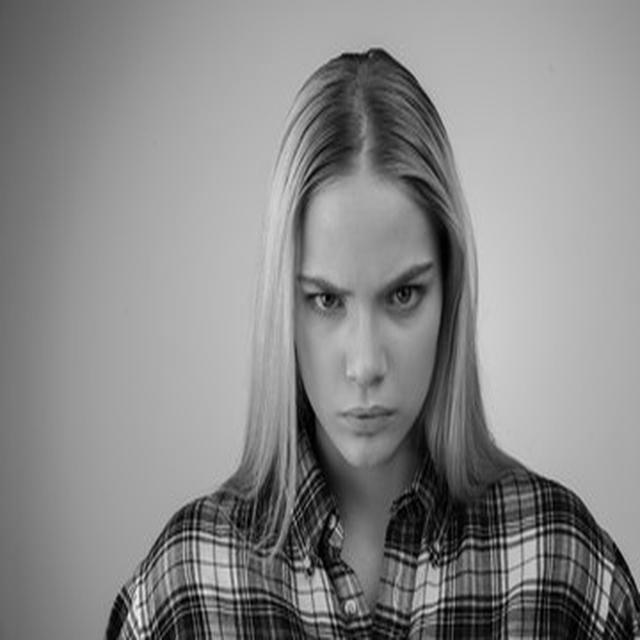Angry: (291, 189, 441, 467)
